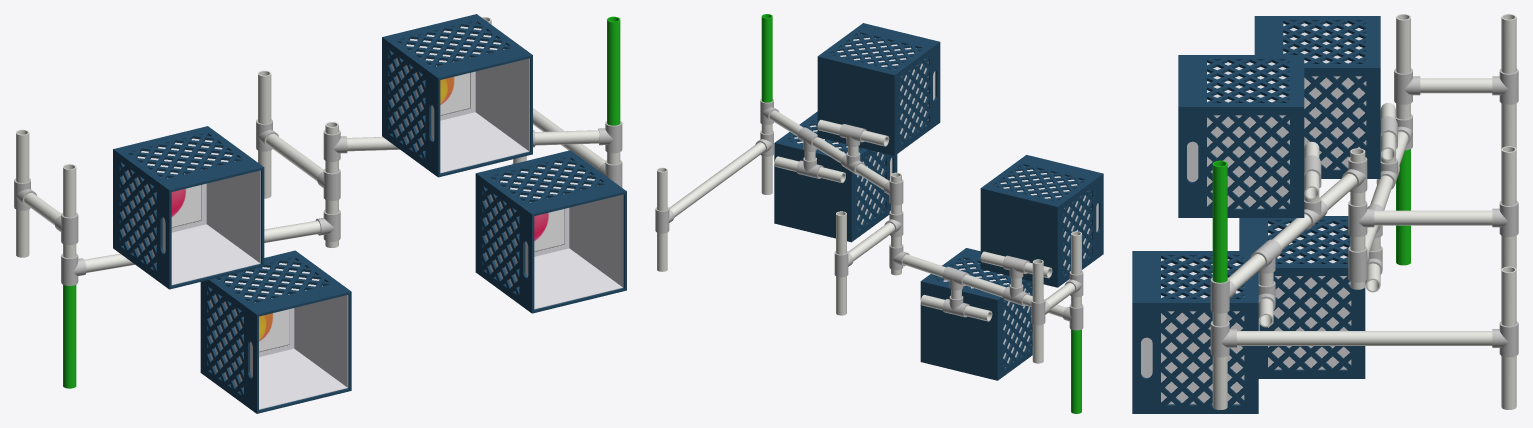
The model's file is Task03_Recon_Blood14_Fire23.obj.
3 renders of one model, left to right at view 1: azimuth 30°, elevation 25°; view 2: azimuth 150°, elevation 25°; view 3: azimuth 270°, elevation 25°, orthographic. The views are drawn at different scales.
Parts seen in each view (by area): view 1: bin4, bin1, bin3, bin2, lateral_bars, leg_middle, spine, leg_left, leg_right; view 2: bin3, bin1, bin2, bin4, lateral_bars, spine, leg_right, leg_middle, leg_left; view 3: bin3, bin4, bin1, bin2, lateral_bars, leg_right, leg_middle, leg_left, spine.
Boxes of the visible parts, bbox=[...] form: bin4: bbox=[475, 150, 626, 313]; bin1: bbox=[113, 126, 264, 289]; bin3: bbox=[382, 14, 532, 177]; bin2: bbox=[200, 250, 351, 413]; lateral_bars: bbox=[61, 16, 622, 388]; leg_middle: bbox=[256, 70, 340, 200]; spine: bbox=[84, 130, 599, 272]; leg_left: bbox=[14, 129, 78, 257]; leg_right: bbox=[482, 17, 622, 187]; bin3: bbox=[817, 23, 940, 156]; bin1: bbox=[980, 155, 1103, 287]; bin2: bbox=[920, 248, 1032, 380]; bin4: bbox=[774, 111, 897, 242]; lateral_bars: bbox=[760, 14, 1083, 413]; spine: bbox=[769, 110, 1066, 317]; leg_right: bbox=[655, 130, 773, 271]; leg_middle: bbox=[834, 210, 903, 315]; leg_left: bbox=[1031, 259, 1083, 363]; bin3: bbox=[1178, 55, 1321, 217]; bin4: bbox=[1132, 251, 1275, 413]; bin1: bbox=[1254, 16, 1397, 178]; bin2: bbox=[1239, 216, 1382, 378]; lateral_bars: bbox=[1210, 14, 1412, 409]; leg_right: bbox=[1210, 266, 1518, 409]; leg_middle: bbox=[1348, 146, 1518, 269]; leg_left: bbox=[1394, 14, 1518, 148]; spine: bbox=[1228, 131, 1408, 290].
Bounding box in the file's own units: 1.37 × 0.8712 × 0.8557.
9 materials, 4 textured.
